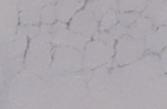fissura: (14, 0, 166, 75)
